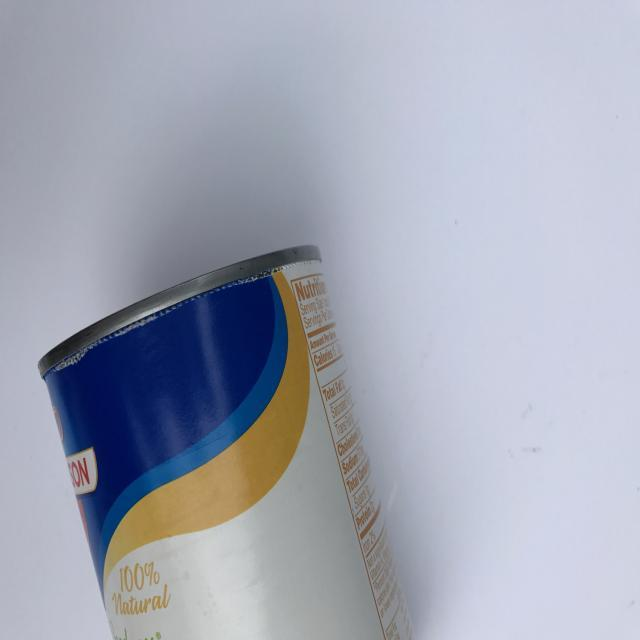metal: (40, 245, 412, 640)
